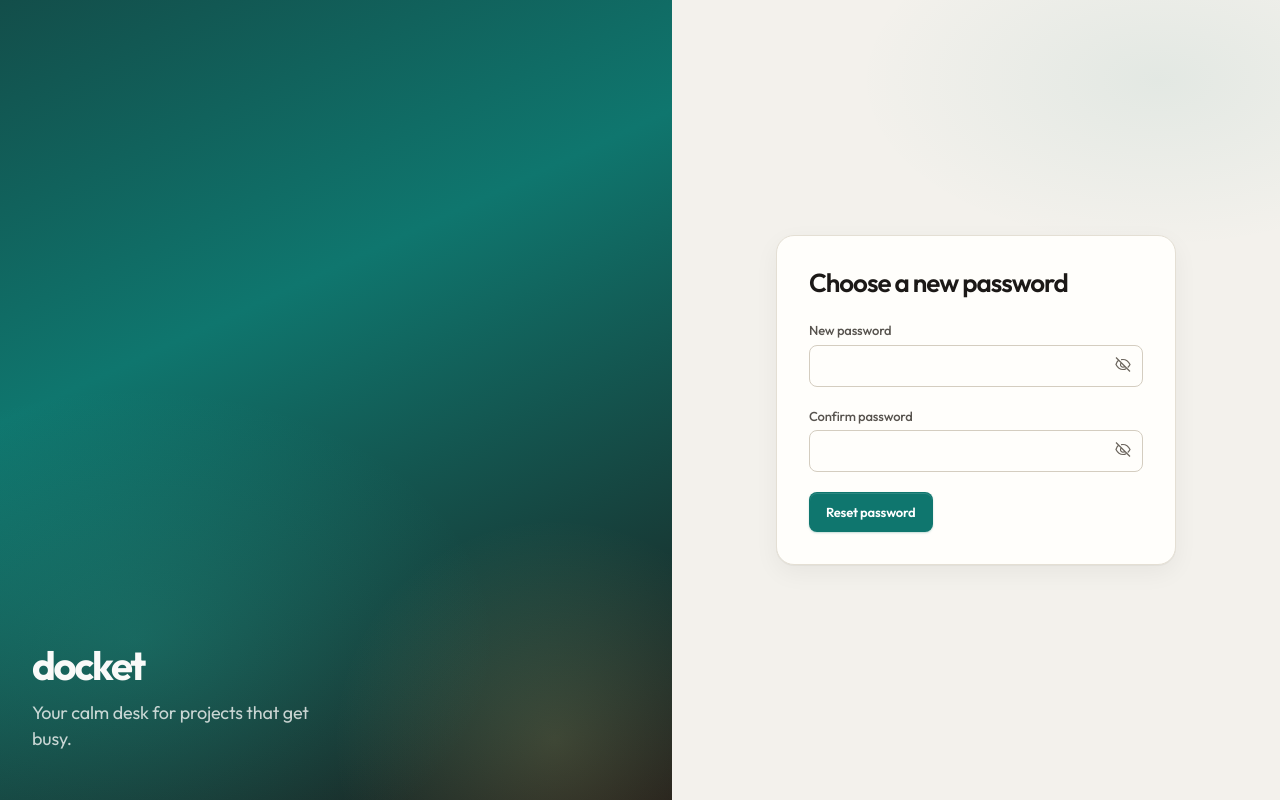
Test: ResetPasswordPage › blocks submit when the passwords don't match
The image size is (1280, 800).
Type "password123" into the password field labelled "New password". click: (976, 366)
box: [809, 344, 1143, 386]
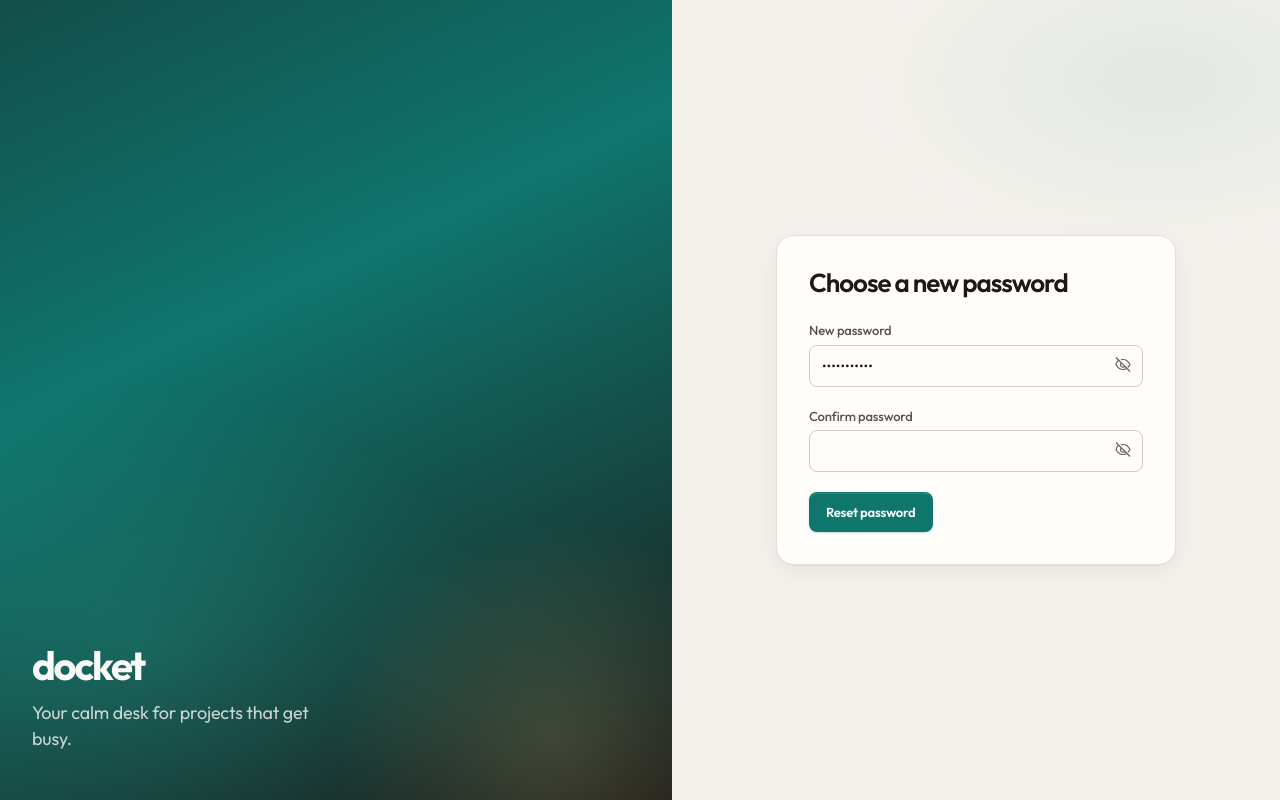
Type "different1" into the password field labelled "Confirm password". click: (976, 451)
box: [809, 430, 1143, 472]
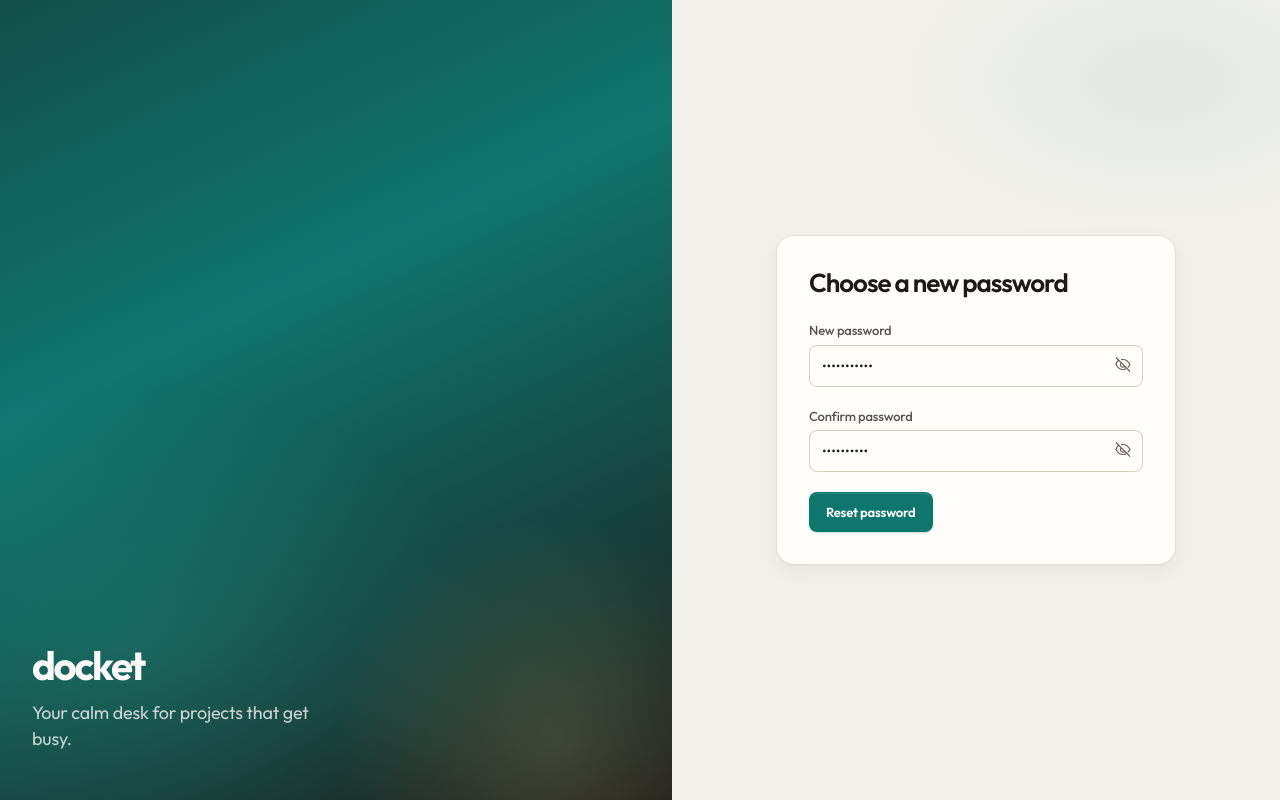
Click the button "Reset password". click: (871, 512)
box: [809, 492, 932, 532]
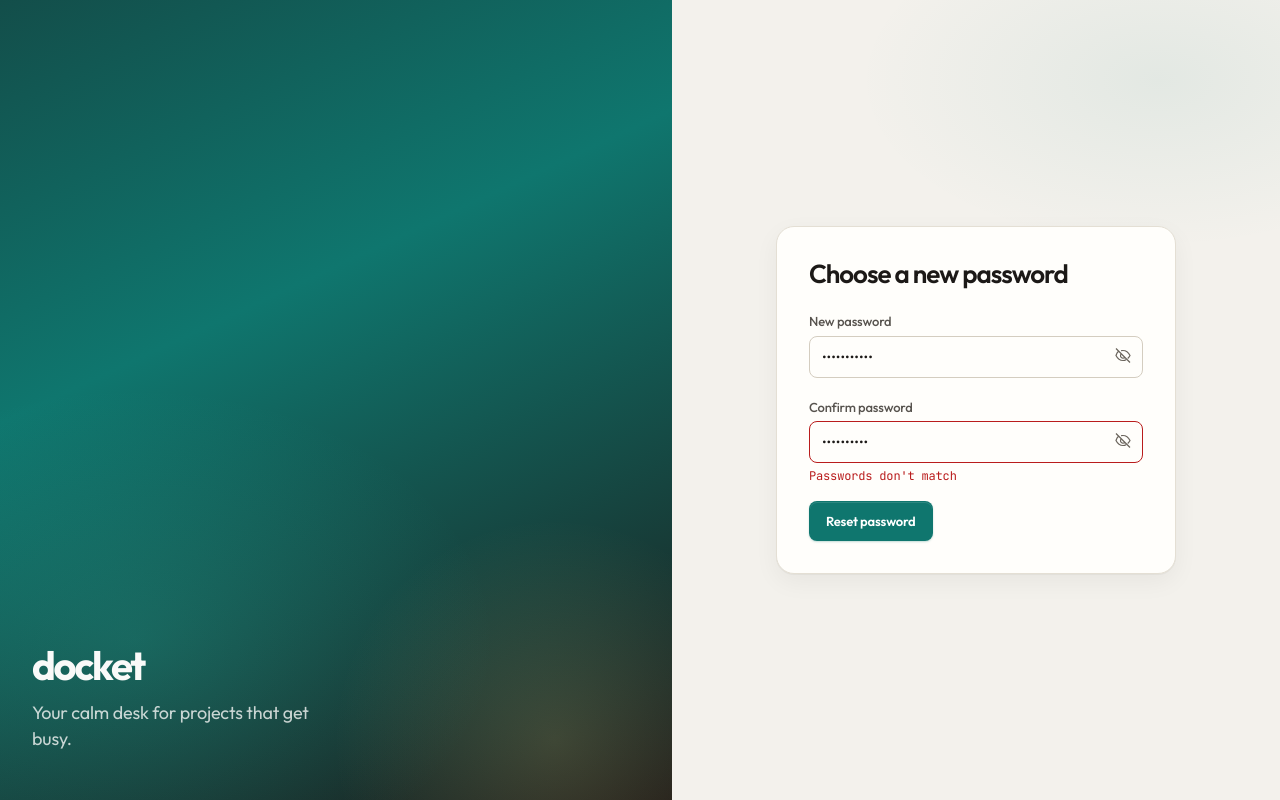
Expected: the text "Passwords don't match" is shown, [809, 468, 957, 484]
